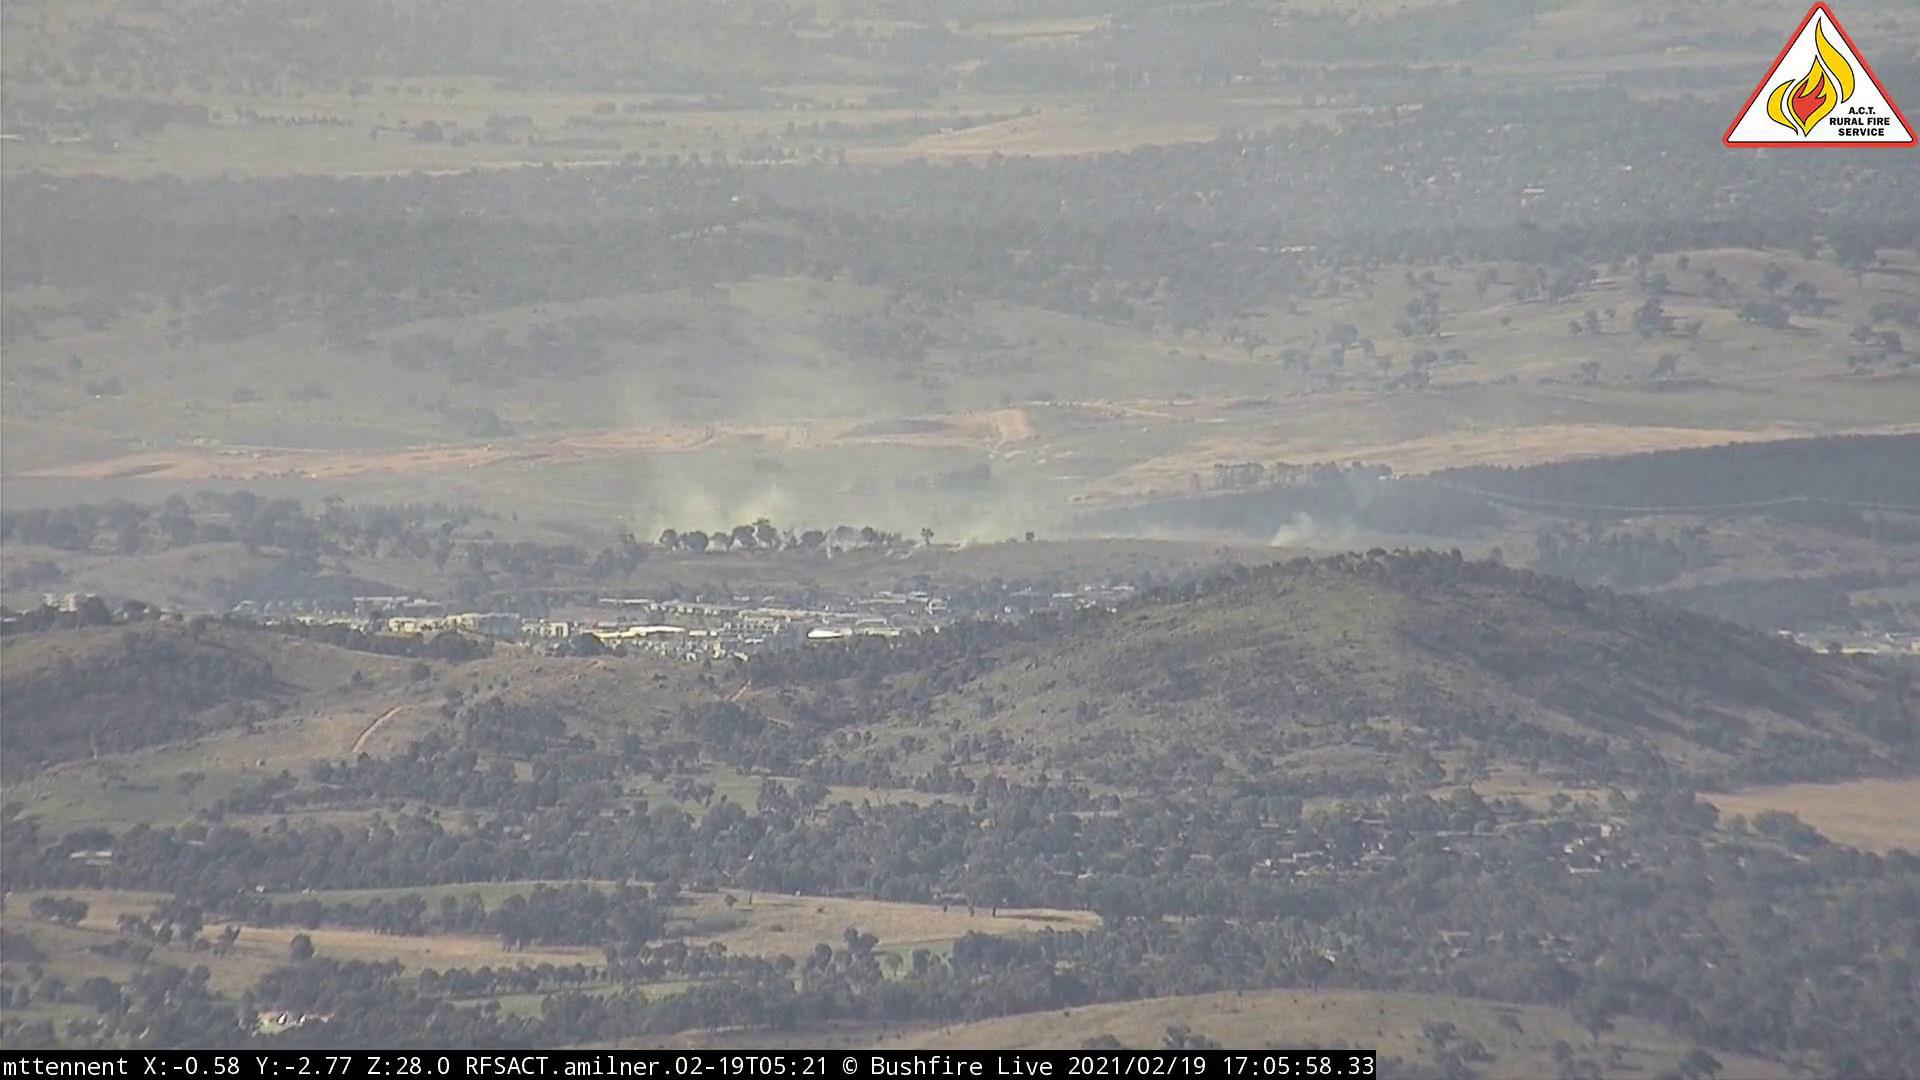Smoke: (638, 316, 1102, 560), (1263, 469, 1408, 550)
